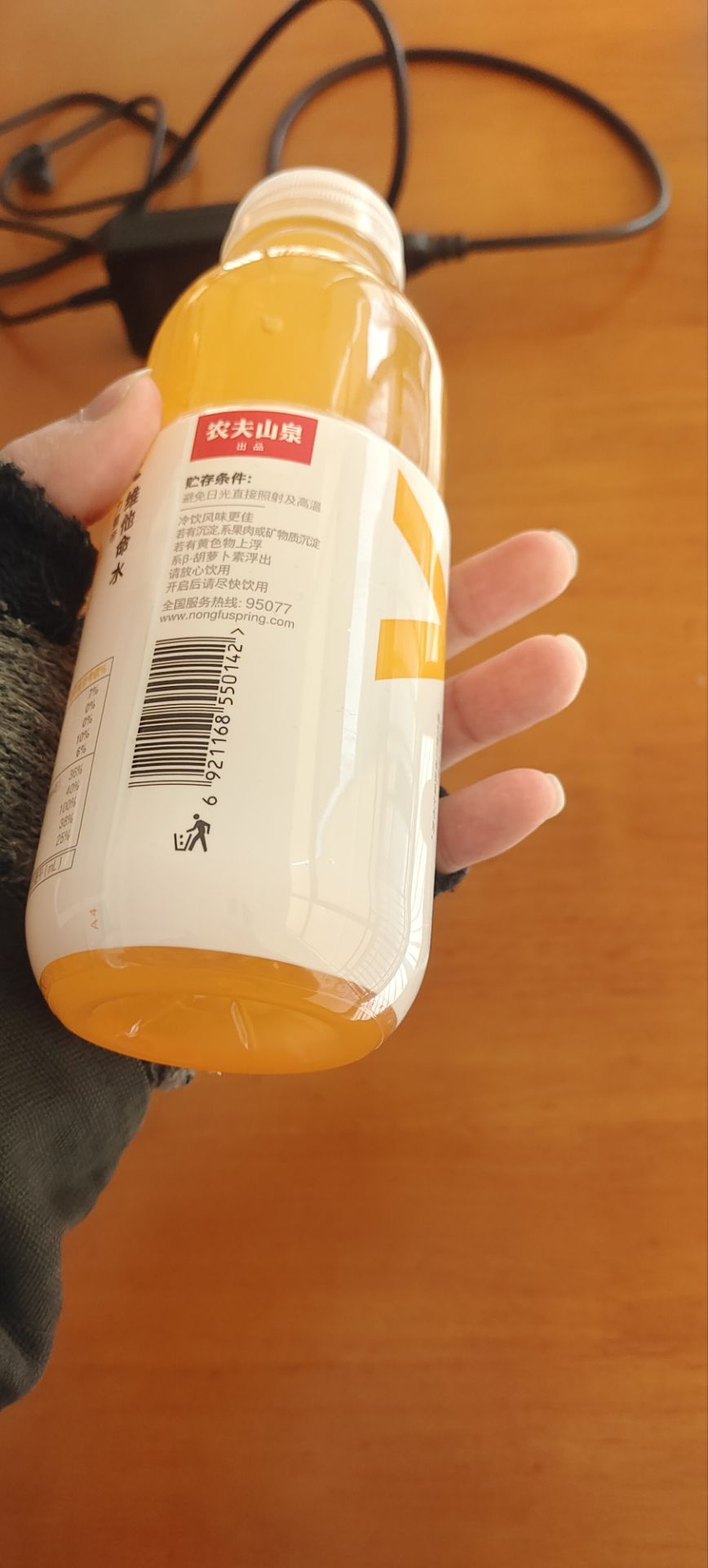redbull: (29, 167, 454, 1045)
